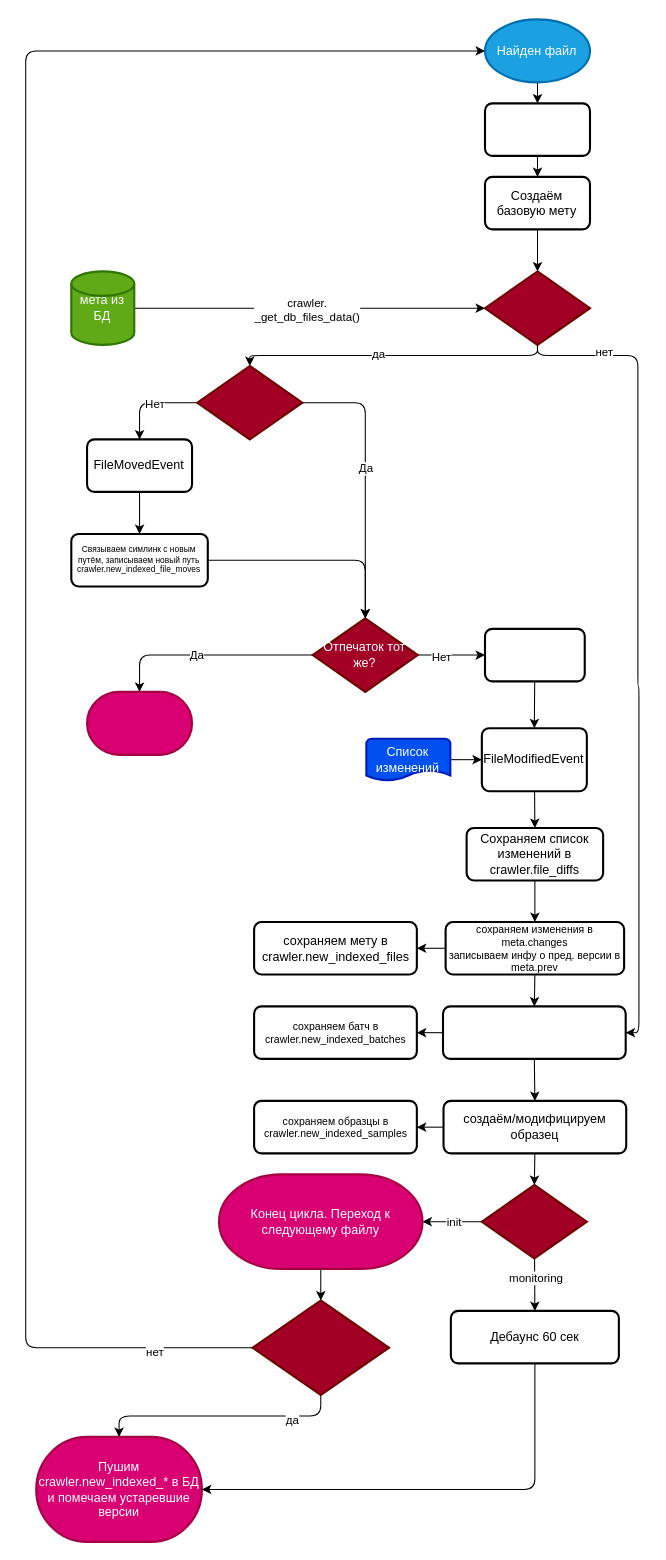
Image size: 666x1560. Some labels were removed from this diagram. The shapes that lost their labels are listed below. From the top down, each one's box as (x1, y1, x2, y2) in pixels, then its label:
(483, 102, 591, 156): FileCreatedEvent
(483, 270, 591, 345): Мета в БД? (ищем по симлинку)
(196, 364, 303, 440): Путь тот же?
(483, 627, 585, 682): финализируем мету файла
(85, 690, 193, 755): Ничего не делаем
(441, 1005, 626, 1059): создаём/модифицируем батч
(480, 1183, 587, 1259): Тип проверки?
(251, 1299, 390, 1395): Индексация файлов завершена?
